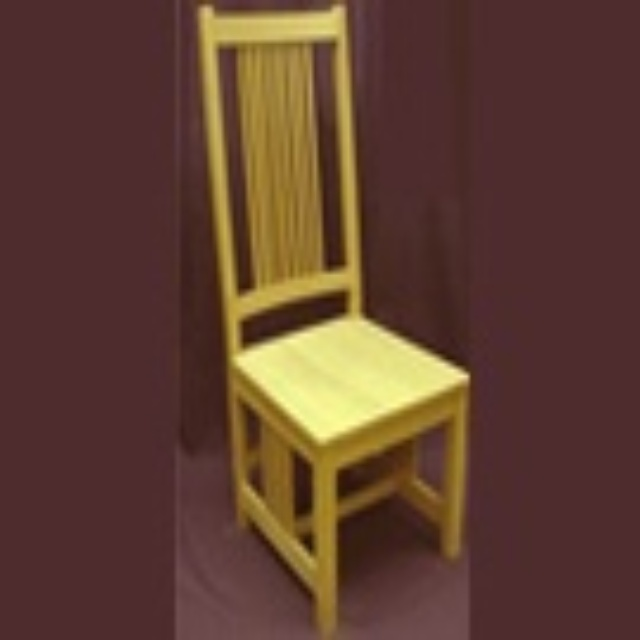obstacle: (199, 6, 465, 628)
